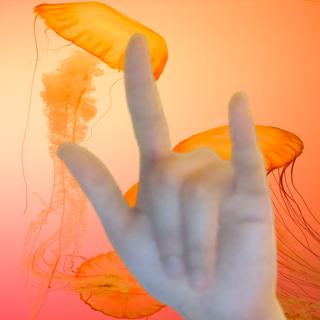ILY: (48, 27, 285, 319)
